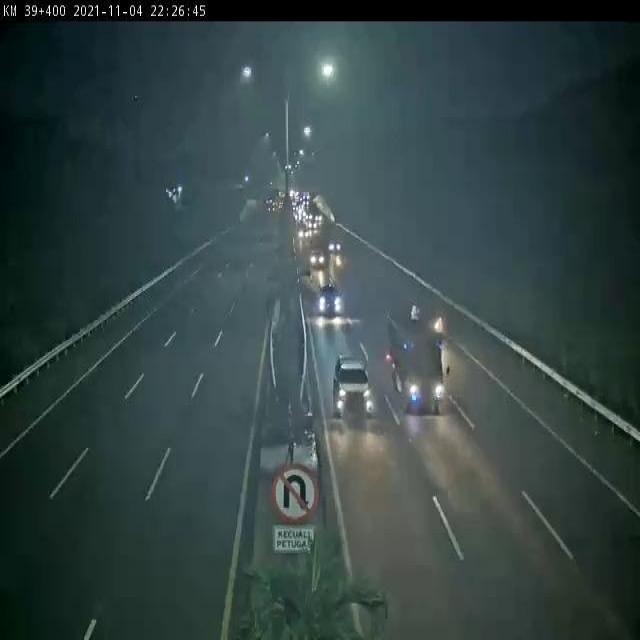car: (334, 358, 374, 422)
truck-m-: (383, 302, 451, 414)
